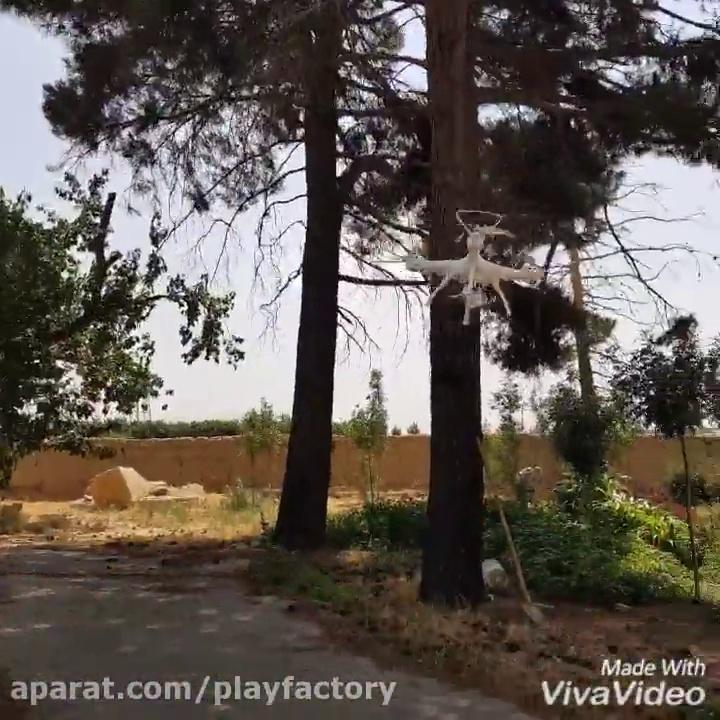drone: (369, 205, 559, 325)
